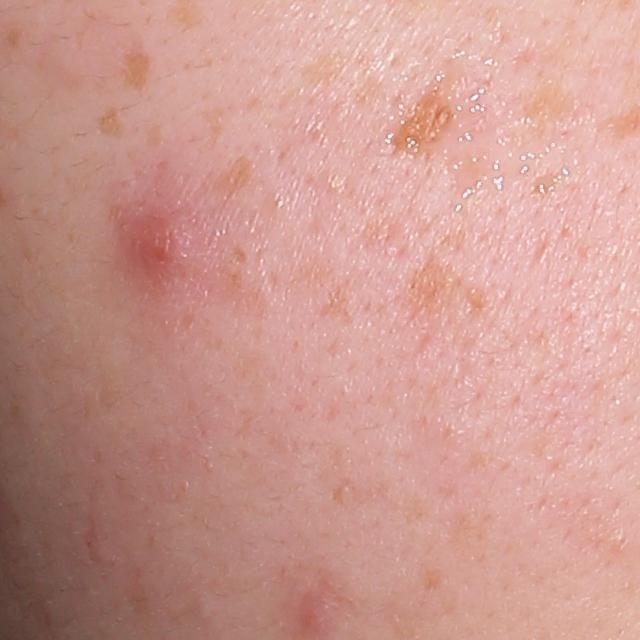comedo: (191, 597, 216, 621)
melasma: (512, 82, 584, 156), (385, 93, 457, 161), (402, 253, 457, 312), (213, 154, 258, 201), (95, 106, 137, 146), (121, 48, 150, 90), (3, 22, 25, 53)
papule: (121, 216, 188, 284), (296, 593, 339, 637)
